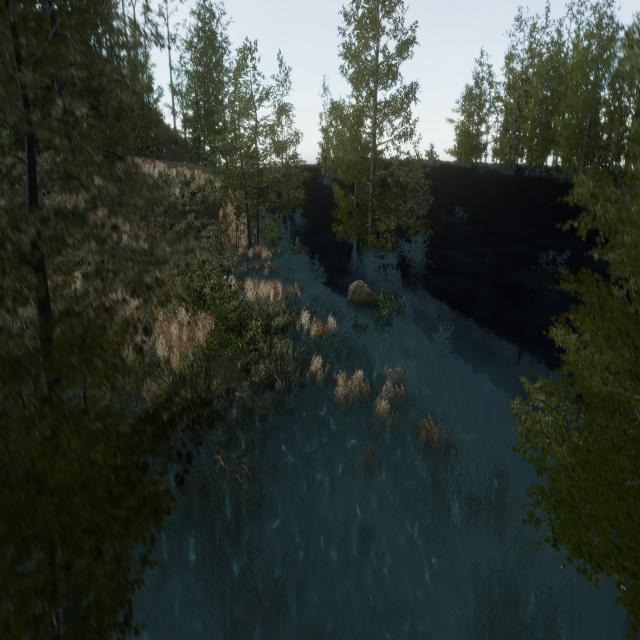Human: (306, 302, 322, 345)
